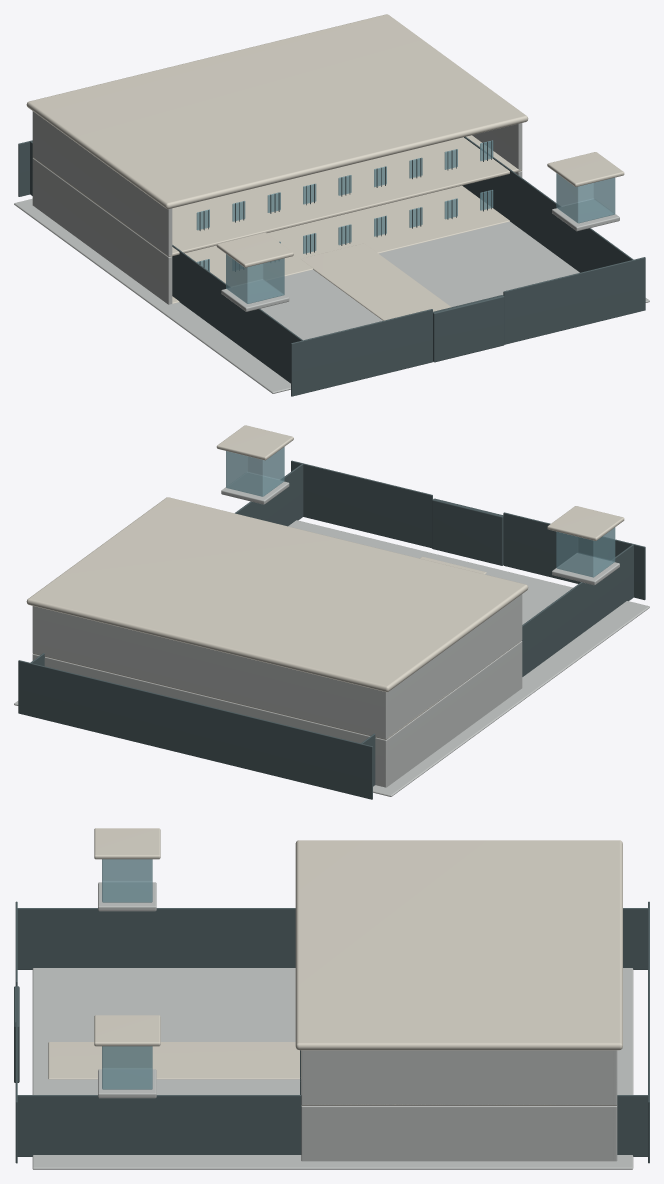
File: detention.glb
3 renders of one model, top to bottom at view 1: azimuth 30°, elevation 25°; view 2: azimuth 150°, elevation 25°; view 3: azimuth 270°, elevation 25°, orthographic. The views are drawn at different scales.
Visible parts, largest first — view 1: facility textured limestone, facility warm architectural concrete, facility graphite frame, facility real building glazing; view 2: facility textured limestone, facility warm architectural concrete, facility graphite frame, facility real building glazing; view 3: facility textured limestone, facility warm architectural concrete, facility graphite frame, facility real building glazing.
Part boxes in pixels (bbox=[...]): facility textured limestone: bbox=[26, 14, 624, 320]; facility warm architectural concrete: bbox=[14, 111, 649, 393]; facility graphite frame: bbox=[18, 136, 645, 396]; facility real building glazing: bbox=[196, 140, 615, 303]; facility textured limestone: bbox=[26, 425, 624, 739]; facility warm architectural concrete: bbox=[14, 473, 649, 796]; facility graphite frame: bbox=[18, 460, 645, 799]; facility real building glazing: bbox=[226, 447, 615, 577]; facility textured limestone: bbox=[48, 828, 622, 1105]; facility warm architectural concrete: bbox=[32, 882, 633, 1169]; facility graphite frame: bbox=[14, 901, 649, 1163]; facility real building glazing: bbox=[102, 859, 152, 1089].
Bounding box in the file's own units: 32.2 × 8.97 × 40.24.
